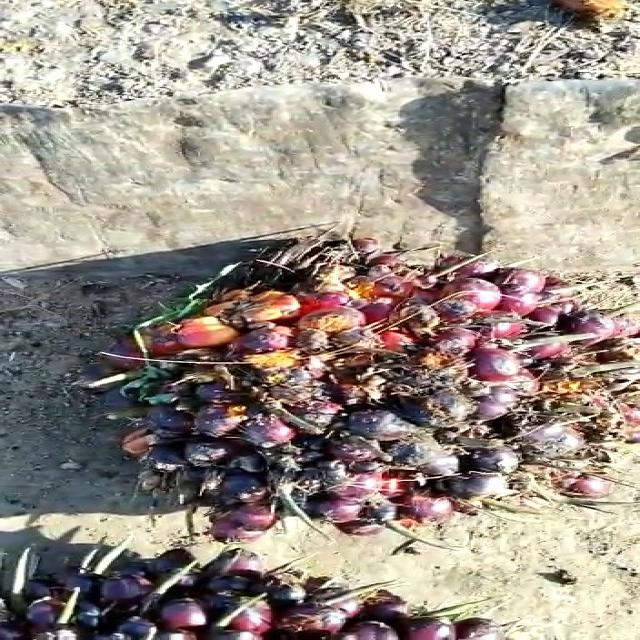palm oil: (106, 232, 640, 536)
